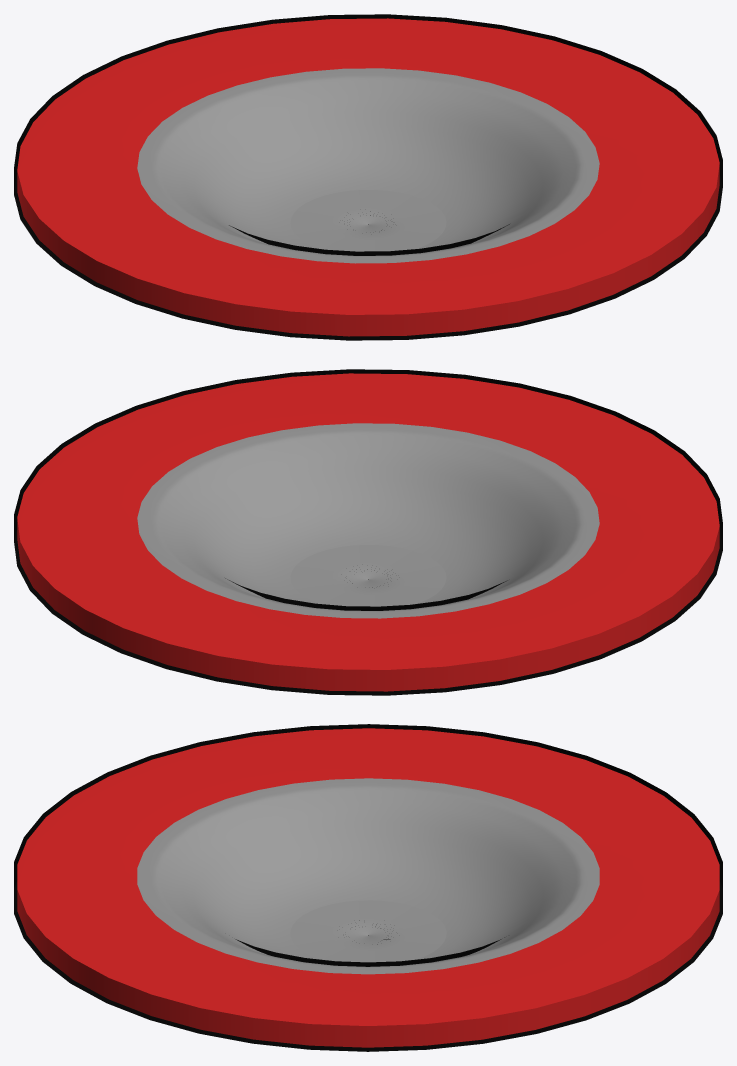
Rendered from plate_single.FBX.
3 views of the same model, one above another, from view 1: azimuth 30°, elevation 25°; view 2: azimuth 150°, elevation 25°; view 3: azimuth 270°, elevation 25° (orthographic).
Visible parts, largest first — view 1: plate, plate_outline; view 2: plate, plate_outline; view 3: plate, plate_outline.
Boxes of the visible parts, box(x1,y1,x2,y2) form: plate: box(17, 18, 719, 336); plate_outline: box(14, 14, 722, 340); plate: box(17, 373, 719, 691); plate_outline: box(14, 369, 722, 695); plate: box(17, 728, 719, 1047); plate_outline: box(14, 724, 722, 1051).
Bounding box in the file's own units: 136 × 18.71 × 135.
